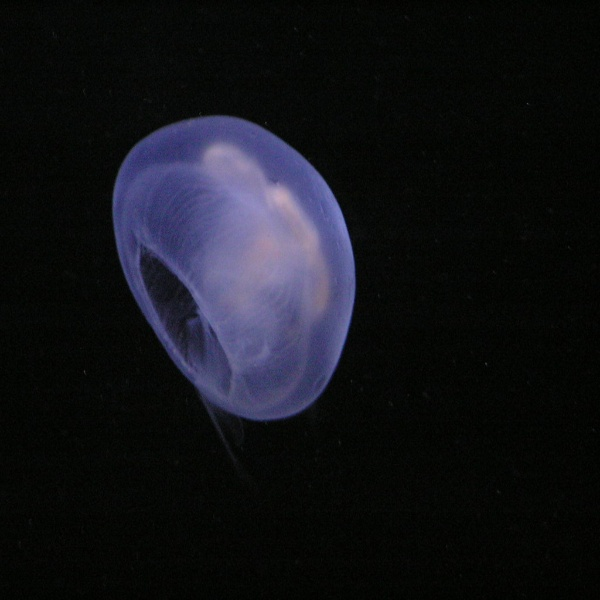Jellyfish: (110, 109, 356, 465)
